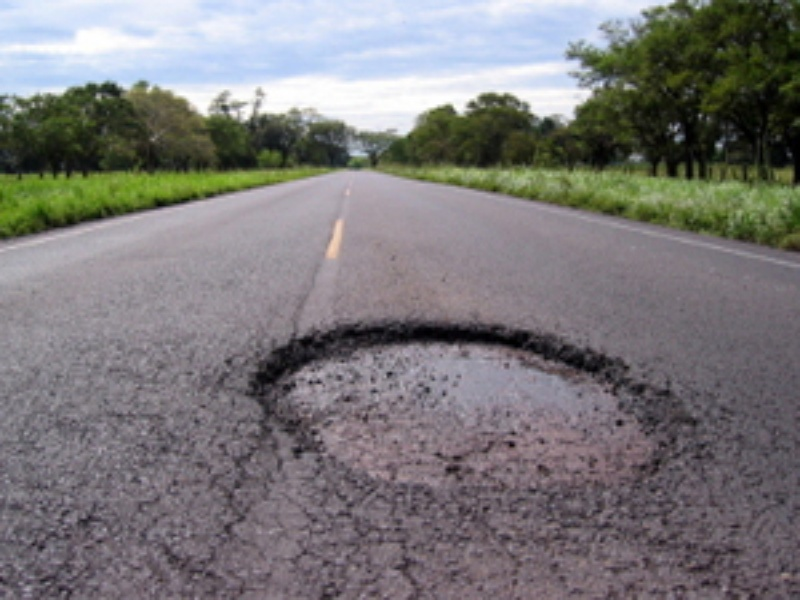pothole: (243, 317, 683, 506)
